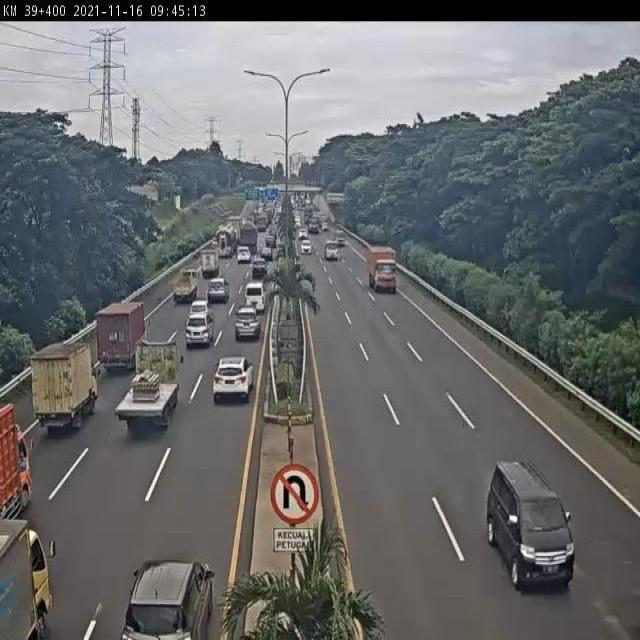car: (486, 462, 574, 590), (213, 357, 254, 400), (184, 314, 212, 349), (233, 312, 257, 343), (245, 283, 264, 313), (207, 278, 227, 306), (185, 300, 207, 323), (251, 261, 269, 279)
small truck: (32, 342, 99, 434), (97, 298, 150, 371), (170, 267, 196, 304), (201, 245, 220, 278)
truck-m-: (116, 344, 181, 428), (366, 248, 398, 295)
